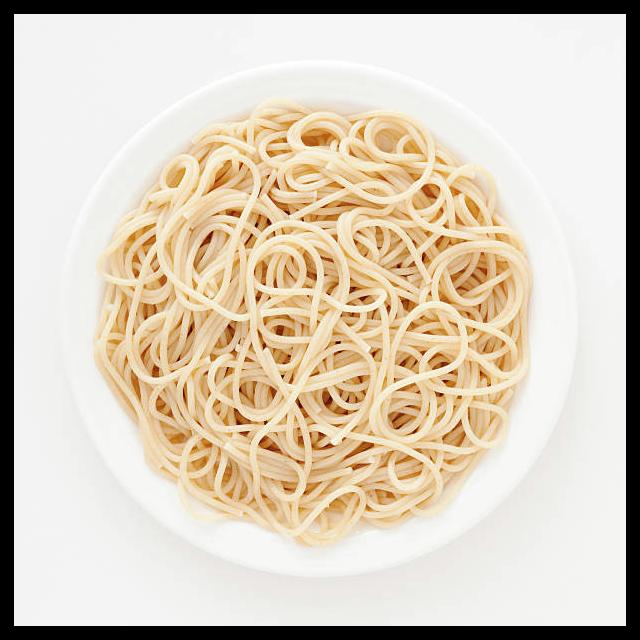noodles: (93, 100, 536, 546)
